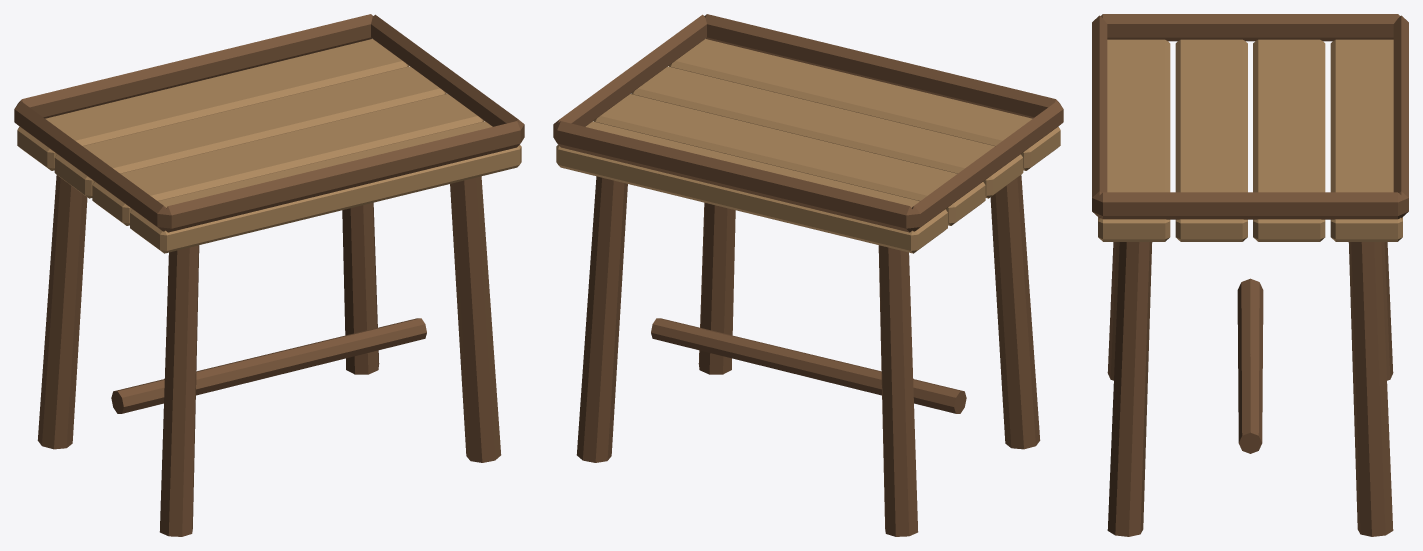
3 renders of one model, left to right at view 1: azimuth 30°, elevation 25°; view 2: azimuth 150°, elevation 25°; view 3: azimuth 270°, elevation 25°, orthographic. The views are drawn at different scales.
Visible parts, largest first — view 1: BA-0019 batched; view 2: BA-0019 batched; view 3: BA-0019 batched.
Boxes of the visible parts, x1=… form: BA-0019 batched: x1=14, y1=14, x2=524, y2=536; BA-0019 batched: x1=553, y1=14, x2=1063, y2=536; BA-0019 batched: x1=1092, y1=14, x2=1408, y2=536.
Size of the model in its own units: 1.01 by 0.8975 by 0.735.
